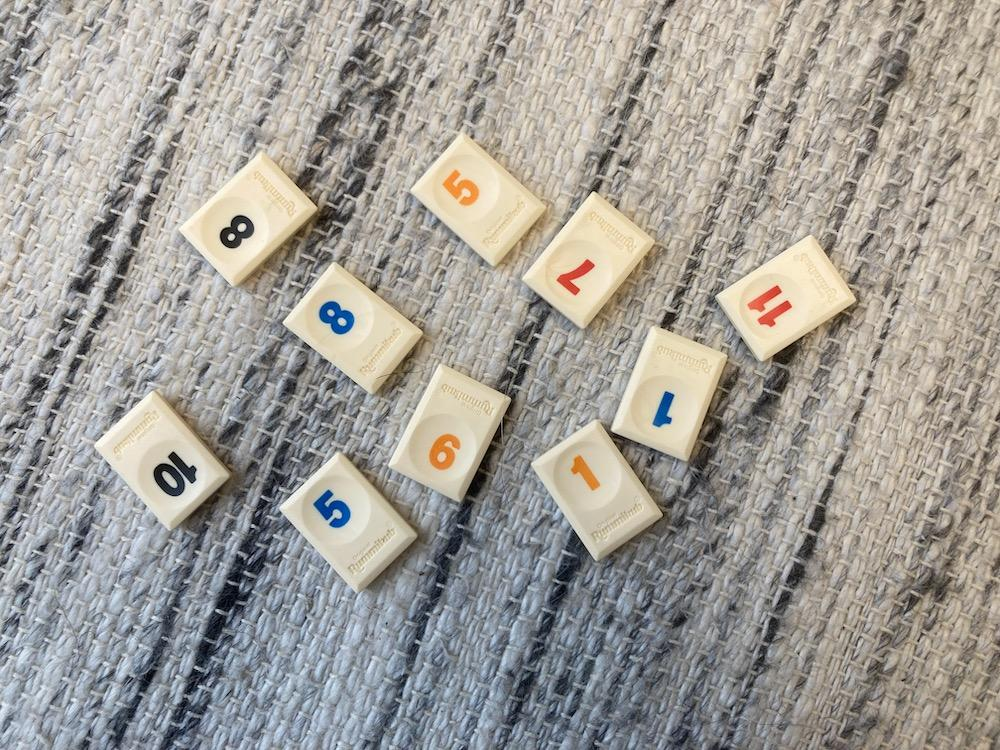black_10: (96, 393, 229, 529)
black_8: (180, 152, 316, 285)
blue_1: (612, 326, 727, 461)
blue_5: (281, 453, 416, 592)
blue_8: (283, 262, 422, 393)
orange_1: (531, 420, 662, 561)
orange_5: (410, 133, 545, 266)
orange_9: (391, 365, 510, 502)
red_11: (719, 236, 855, 361)
red_7: (523, 193, 654, 328)
